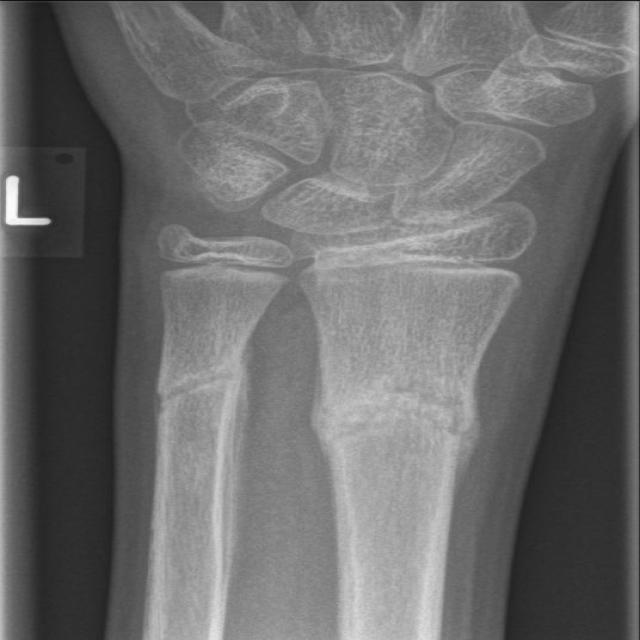fracture: (302, 390, 490, 472), (277, 241, 539, 290), (152, 237, 302, 301), (146, 356, 259, 420)
